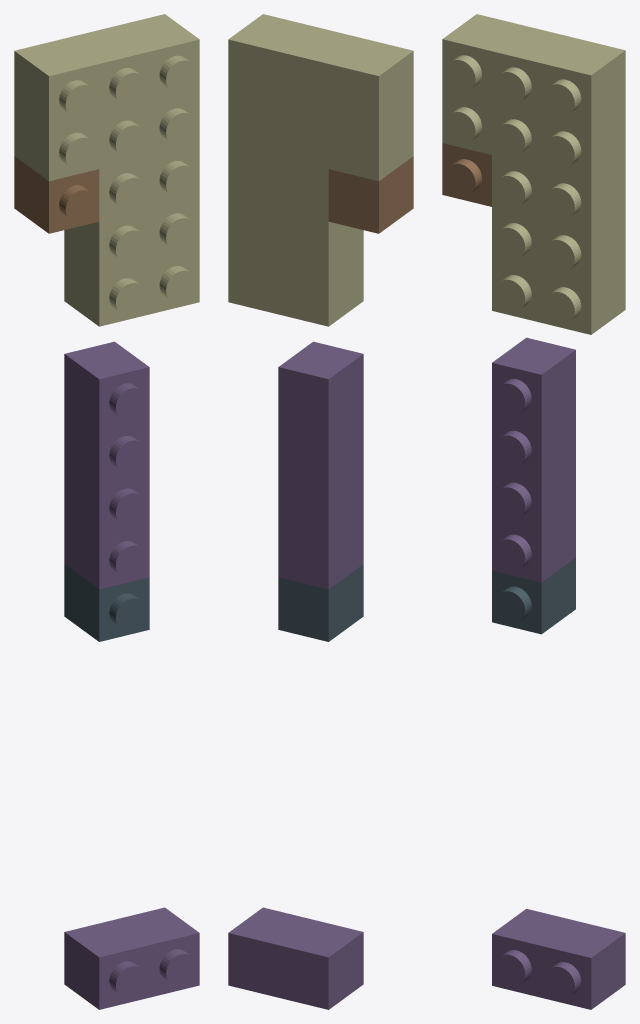
File: current.glb
3 renders of one model, left to right at view 1: azimuth 30°, elevation 25°; view 2: azimuth 150°, elevation 25°; view 3: azimuth 330°, elevation 25°, orthographic.
Parts seen in each view (by area): view 1: world; view 2: world; view 3: world.
Part boxes in pixels (x1,y1,x2,y2): world: (14,14,199,1009); world: (228,14,413,1009); world: (442,14,625,1009).
Size of the model in its own units: 24 by 144 by 11.4.
